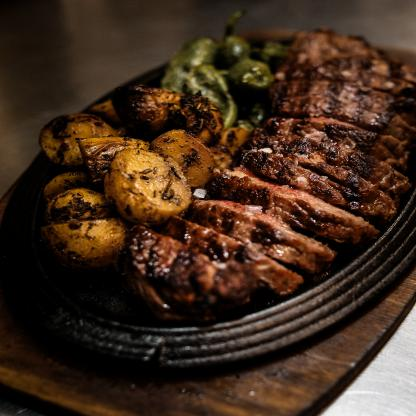Carne: (225, 166, 369, 242), (198, 192, 336, 271), (126, 230, 248, 310), (185, 214, 301, 298), (261, 143, 394, 215), (292, 73, 413, 124), (287, 108, 415, 156)
